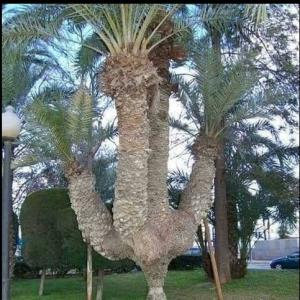palm tree: (2, 3, 300, 299)
